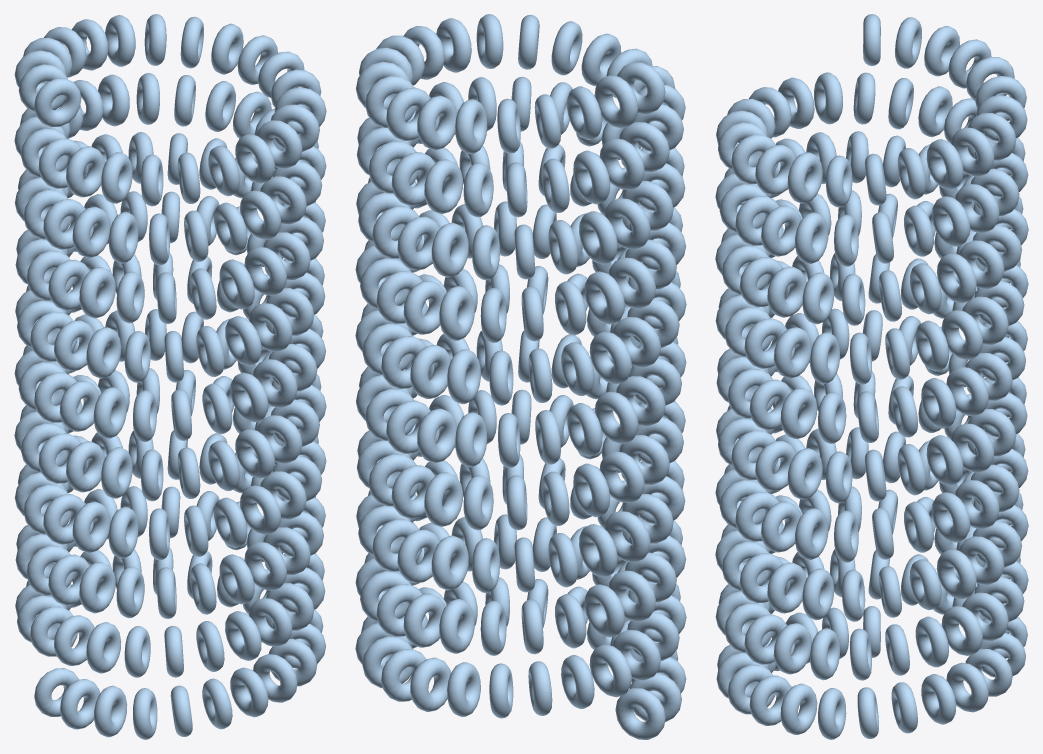
The picture shows the model from 3 angles, left to right: view 1: azimuth 30°, elevation 25°; view 2: azimuth 150°, elevation 25°; view 3: azimuth 270°, elevation 25°; orthographic projection. The views are drawn at different scales.
Visible parts, largest first — view 1: torus; view 2: torus; view 3: torus.
Part boxes in pixels (x1,y1,x2,y2): torus: (14, 14, 326, 739); torus: (355, 14, 686, 739); torus: (715, 14, 1028, 739).
Size of the model in its own units: 0.4444 by 1 by 0.4444.
